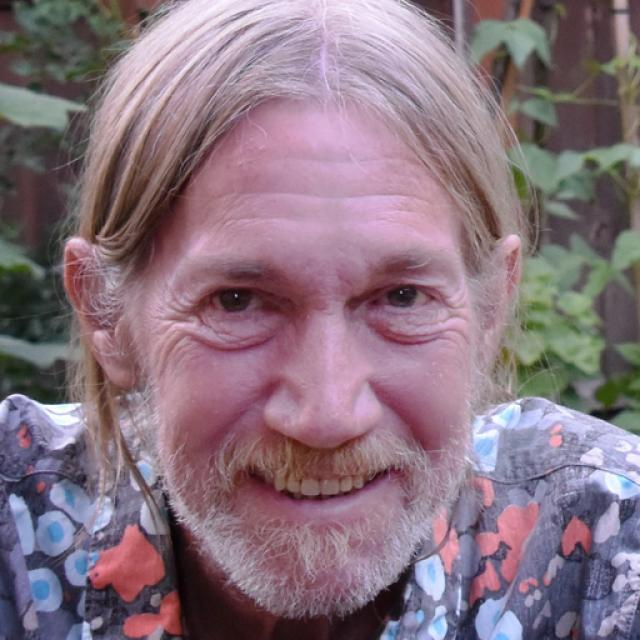happy: (144, 91, 476, 612)
